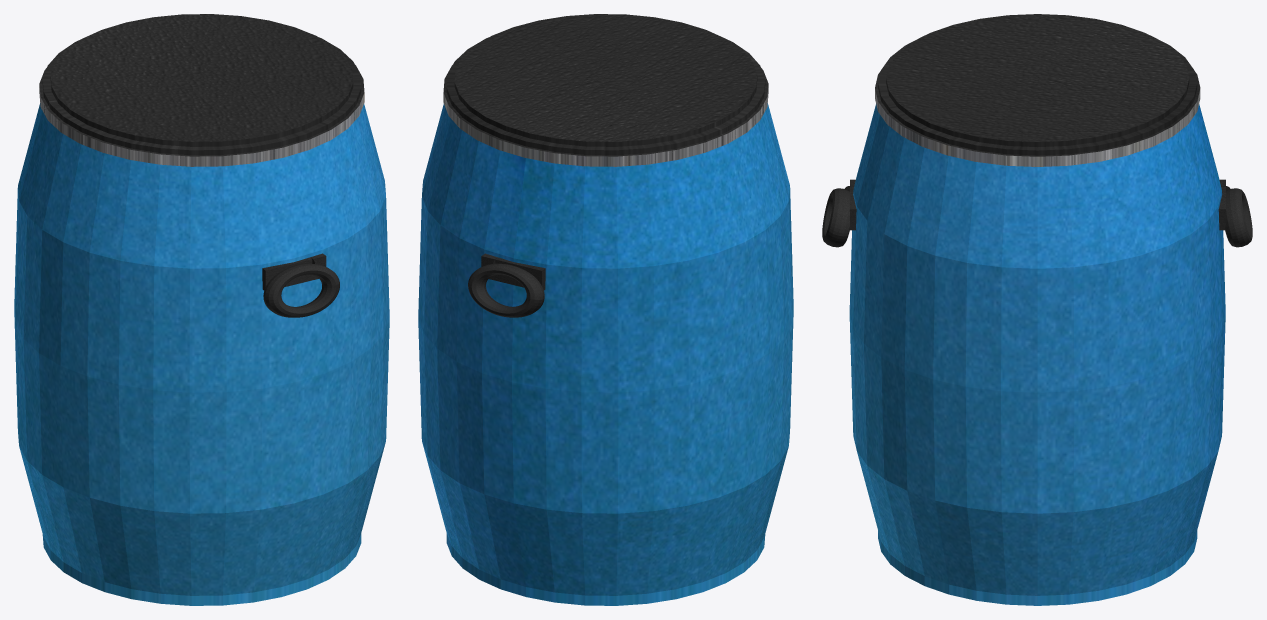
The model's file is barrel5.fbx.
3 views of the same model, side by side, from view 1: azimuth 30°, elevation 25°; view 2: azimuth 150°, elevation 25°; view 3: azimuth 270°, elevation 25° (orthographic).
Visible parts, largest first — view 1: Cylinder.004; view 2: Cylinder.004; view 3: Cylinder.004.
Boxes of the visible parts, x1,y1,x2,y2 form: Cylinder.004: (14,14,389,605); Cylinder.004: (418,14,793,605); Cylinder.004: (822,14,1252,605).
Bounding box in the file's own units: 339 × 458 × 388.
